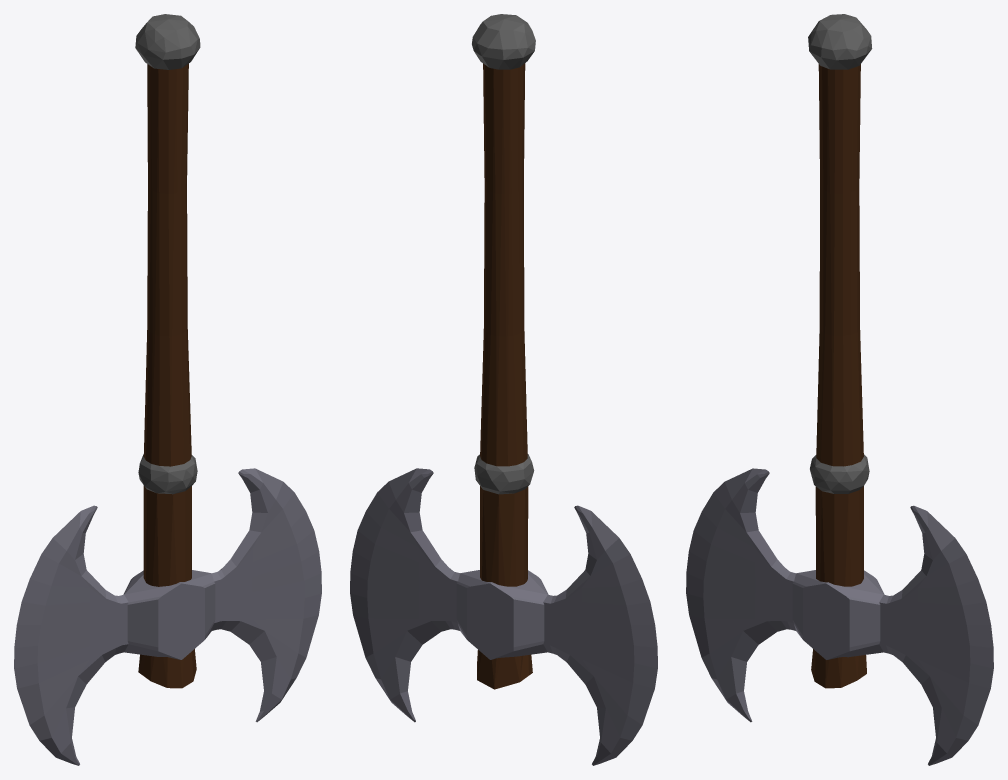
File: axe3.fbx
3 views of the same model, side by side, from view 1: azimuth 30°, elevation 25°; view 2: azimuth 150°, elevation 25°; view 3: azimuth 330°, elevation 25° (orthographic).
Visible parts, largest first — view 1: axe3; view 2: axe3; view 3: axe3.
Boxes of the visible parts, x1,y1,x2,y2 form: axe3: (14, 14, 321, 765); axe3: (350, 14, 657, 765); axe3: (686, 14, 993, 765).
Size of the model in its own units: 80.58 by 181 by 14.56.
